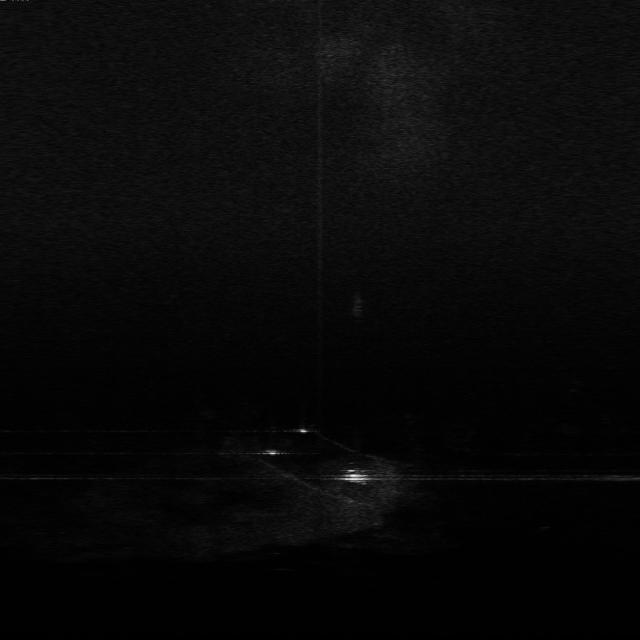rov: (342, 466, 372, 486)
